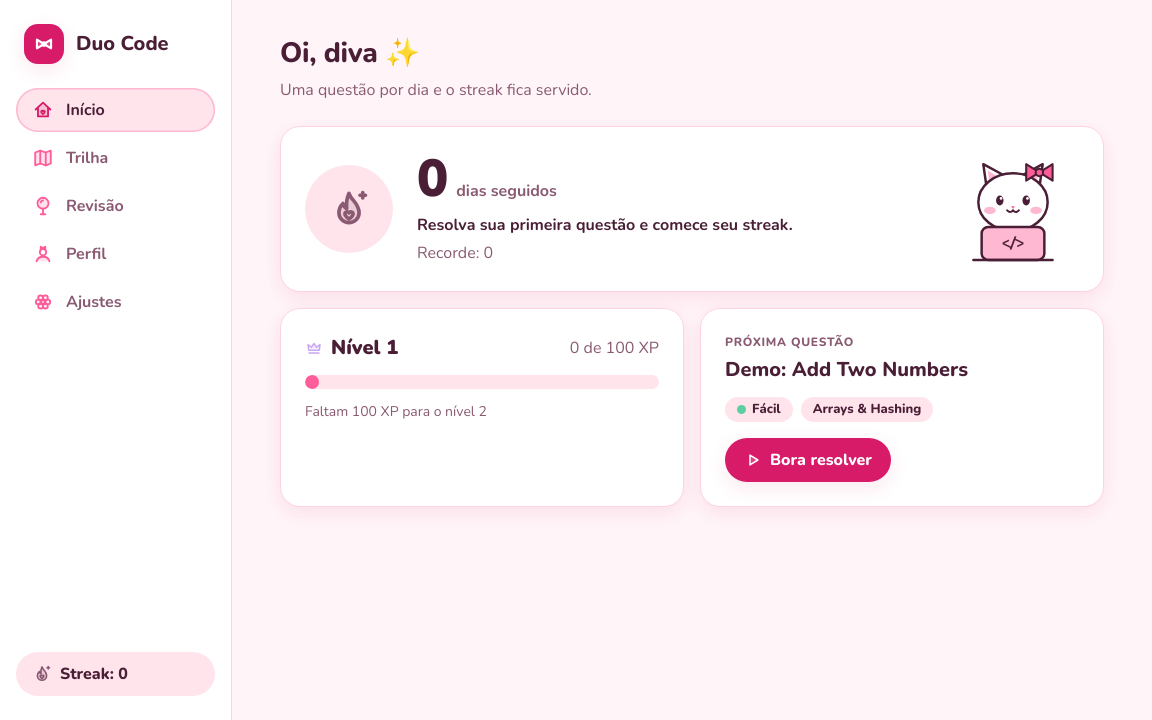
Test: Trilha (spec 004) › mostra as unidades em ordem, com estado e progresso
Click the link "Trilha": (70, 158) [32,147,108,169]
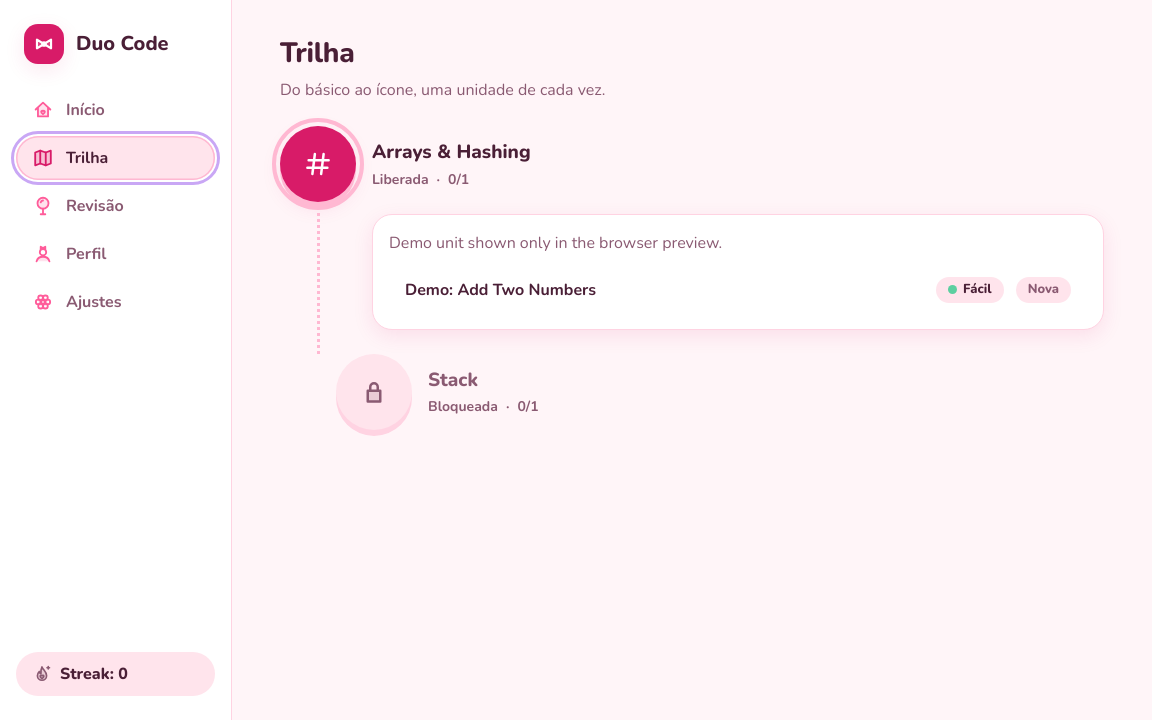
Result: the button "Arrays & Hashing Liberada · 0/1" is shown at [280,126,531,202]
Result: the button "Stack Bloqueada · 0/1" is shown at [336,354,539,430]
Result: the link "Demo: Add Two Numbers Fácil Nova" is shown at [405,277,1071,302]
